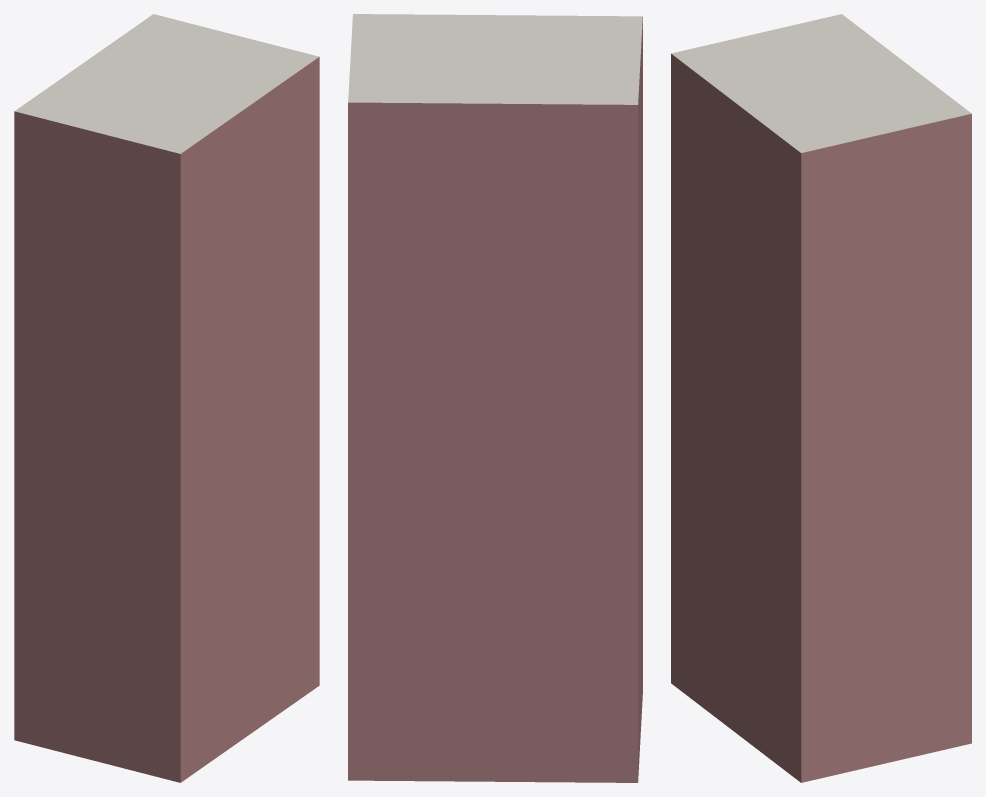
The model's file is nyc-1024649-0.glb.
3 views of the same model, side by side, from view 1: azimuth 30°, elevation 25°; view 2: azimuth 150°, elevation 25°; view 3: azimuth 270°, elevation 25° (orthographic). The views are drawn at different scales.
Parts seen in each view (by area): view 1: nyc-1024649-0; view 2: nyc-1024649-0; view 3: nyc-1024649-0.
Part boxes in pixels (x1,y1,x2,y2): nyc-1024649-0: (14,14,319,782); nyc-1024649-0: (348,14,642,782); nyc-1024649-0: (671,14,971,782).
Size of the model in its own units: 36.87 by 77.8 by 33.69.
